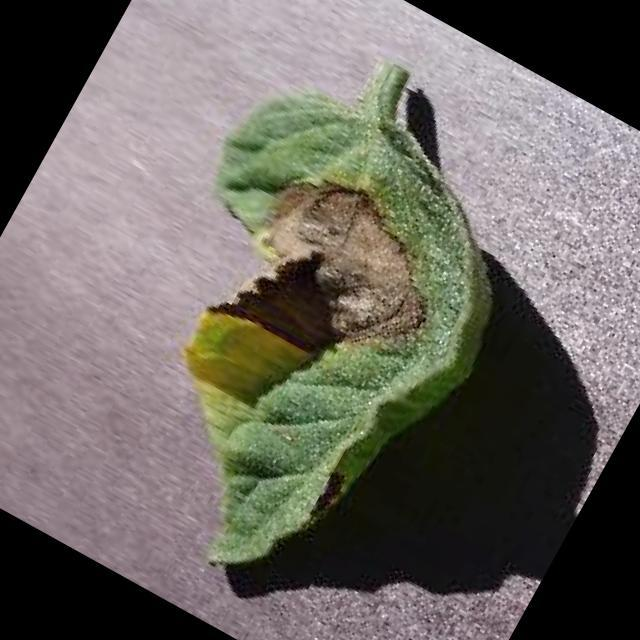Tomato Early blight leaf: (34, 39, 564, 640)
